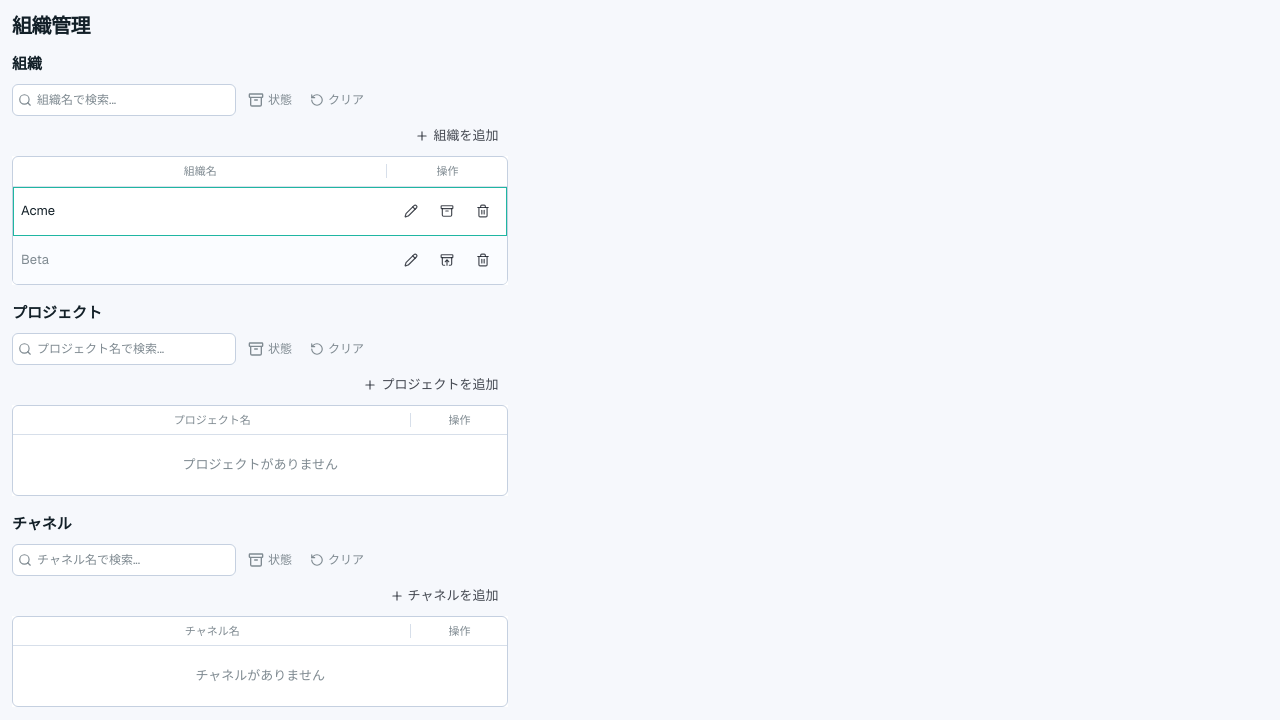
it: OrganizationsScreen › 組織をアーカイブできる（確認ダイアログ経由・set-0058）
Expected: the text "Acme" is shown, [21,202,55,219]
Click the button named "Acme をアーカイブ": {"x": 447, "y": 210} [431,194,463,226]
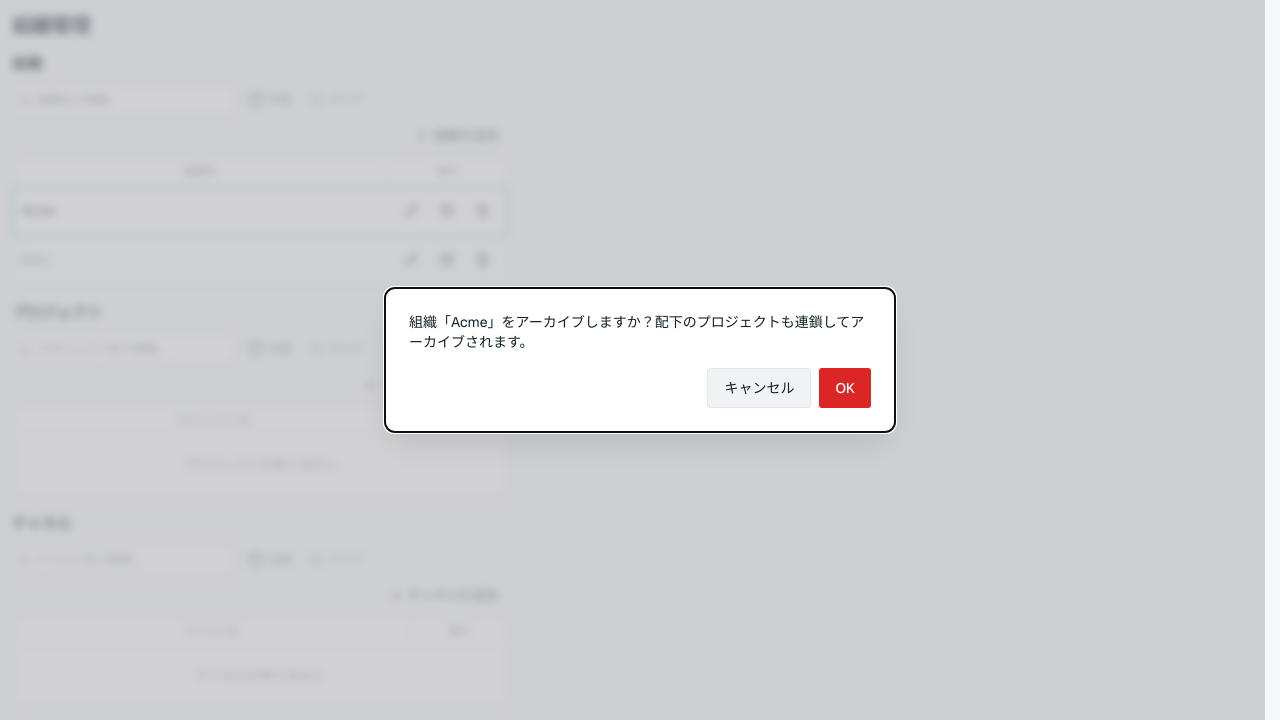
Expected: the text "組織「Acme」をアーカイブしますか？配下のプロジェクトも連鎖してアーカイブされます。" is shown, [409,312,871,352]
Click the button "OK": {"x": 845, "y": 388} [820,368,871,408]
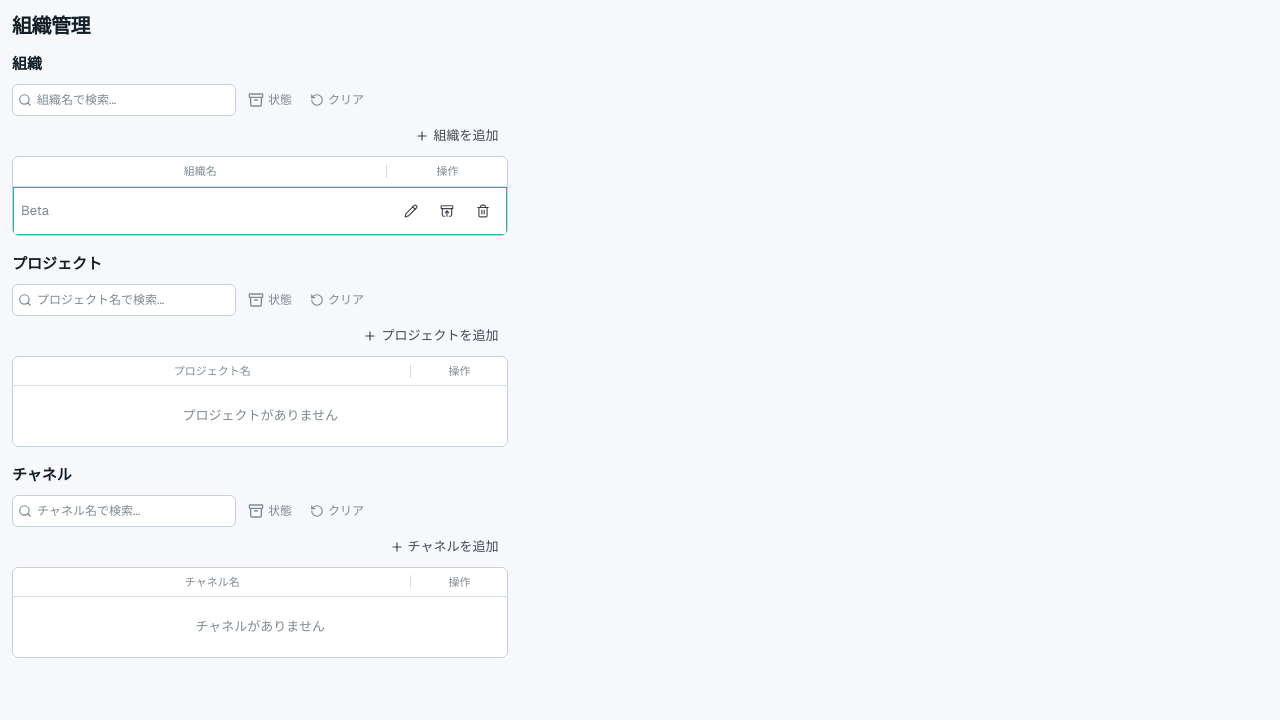
Expected: the text "Acme" is gone
